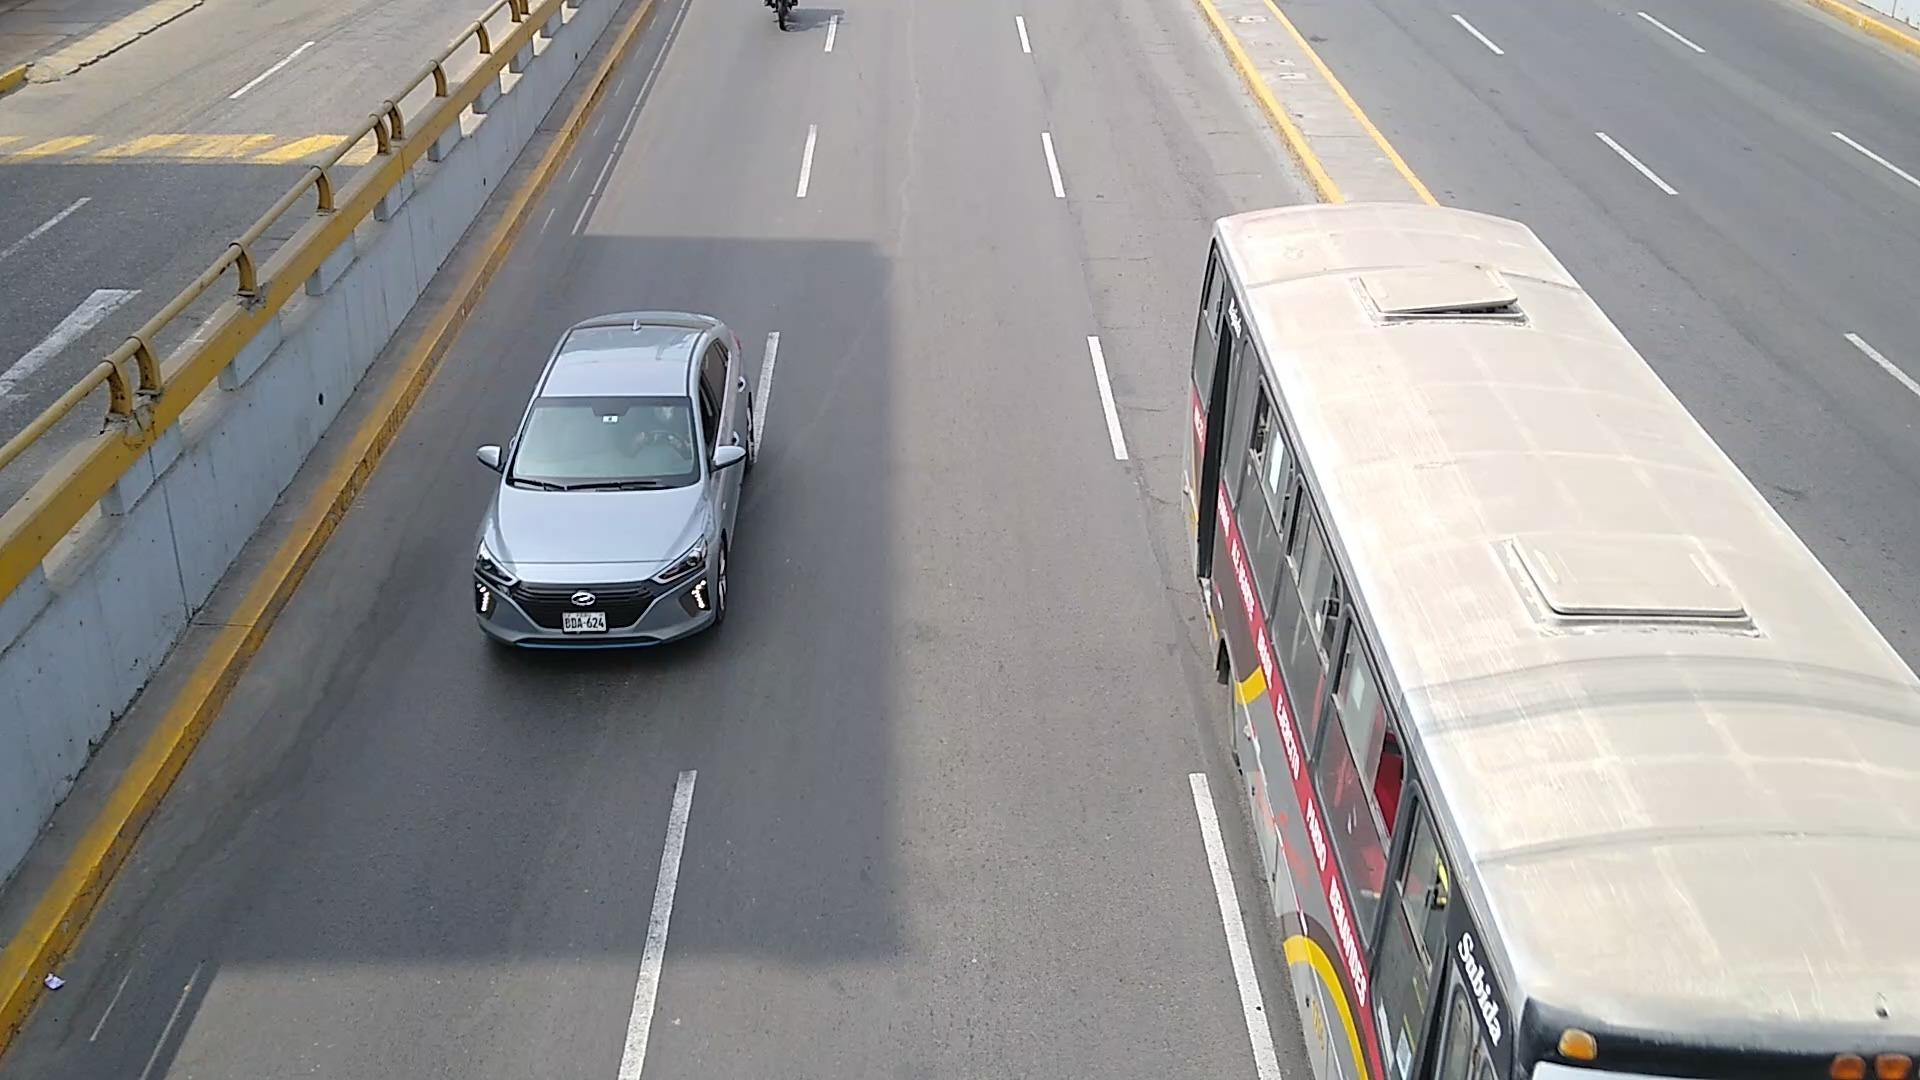bus: (1185, 206, 1920, 1080)
car: (472, 311, 754, 649)
